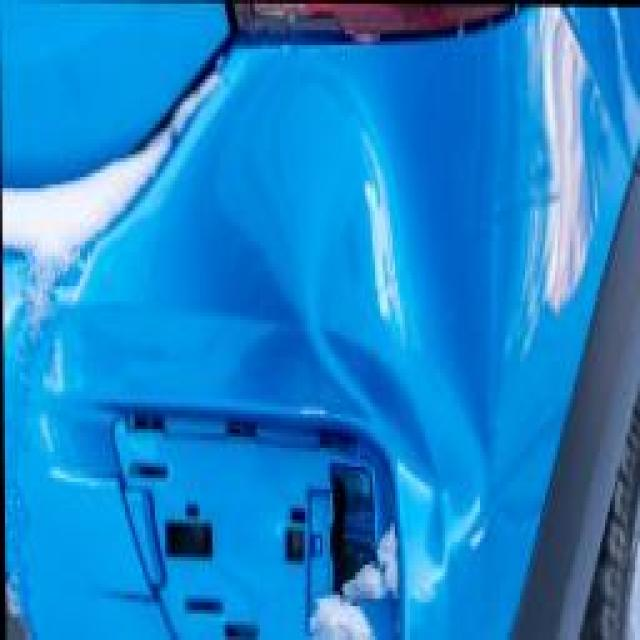Bumper: (1, 12, 640, 640)
